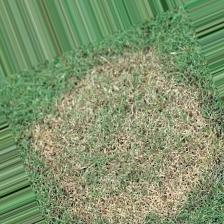patch: (48, 123, 117, 159), (135, 102, 194, 144), (70, 181, 132, 211), (141, 158, 181, 189), (76, 87, 128, 106), (140, 195, 174, 216), (188, 152, 208, 184)
